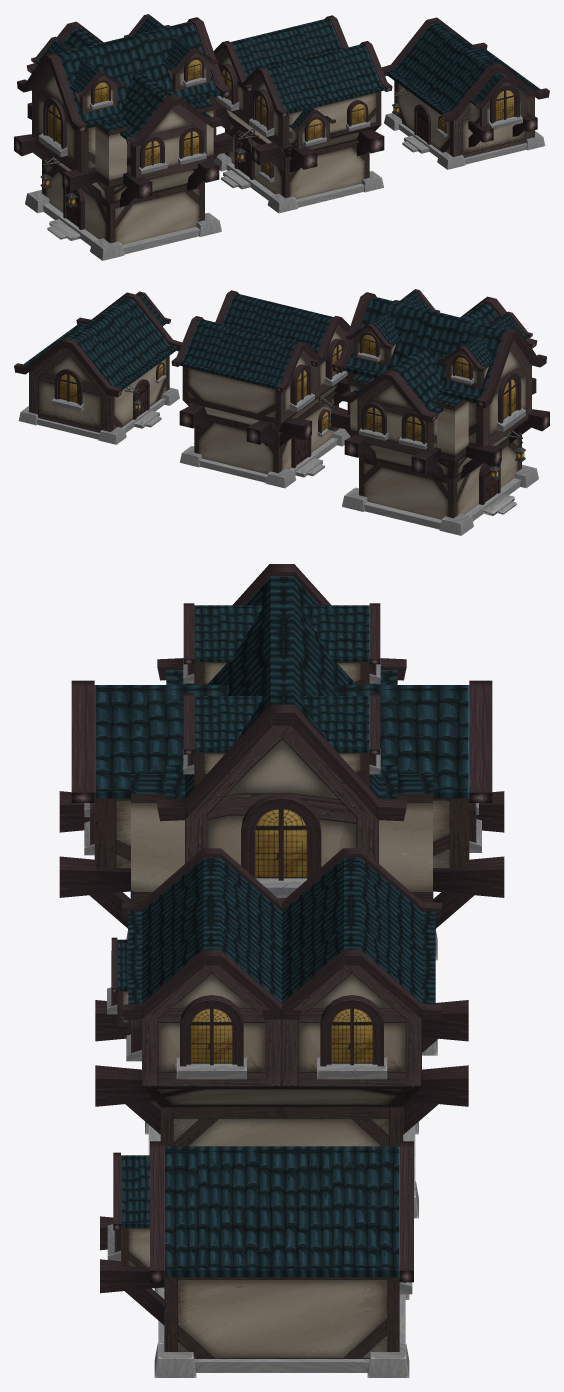
The model's file is forest_houses.fbx.
3 views of the same model, one above another, from view 1: azimuth 30°, elevation 25°; view 2: azimuth 150°, elevation 25°; view 3: azimuth 270°, elevation 25° (orthographic). The views are drawn at different scales.
Visible parts, largest first — view 1: House1, House2, House3; view 2: House1, House2, House3; view 3: House1, House2, House3.
Boxes of the visible parts, box(x1,y1,x2,y2) form: House1: box(14, 14, 232, 260); House2: box(213, 15, 392, 213); House3: box(381, 17, 549, 169); House1: box(331, 289, 549, 535); House2: box(171, 290, 350, 488); House3: box(14, 291, 182, 444); House1: box(59, 564, 504, 1055); House2: box(95, 848, 468, 1218); House3: box(100, 1141, 413, 1377).
Size of the model in its own units: 51.11 by 18.48 by 20.73.
Materials: 2 (2 with a texture image).
